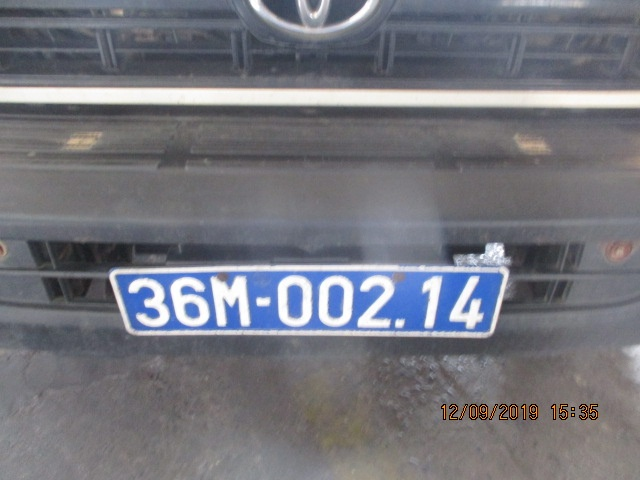number_plate: (122, 276, 491, 334)
